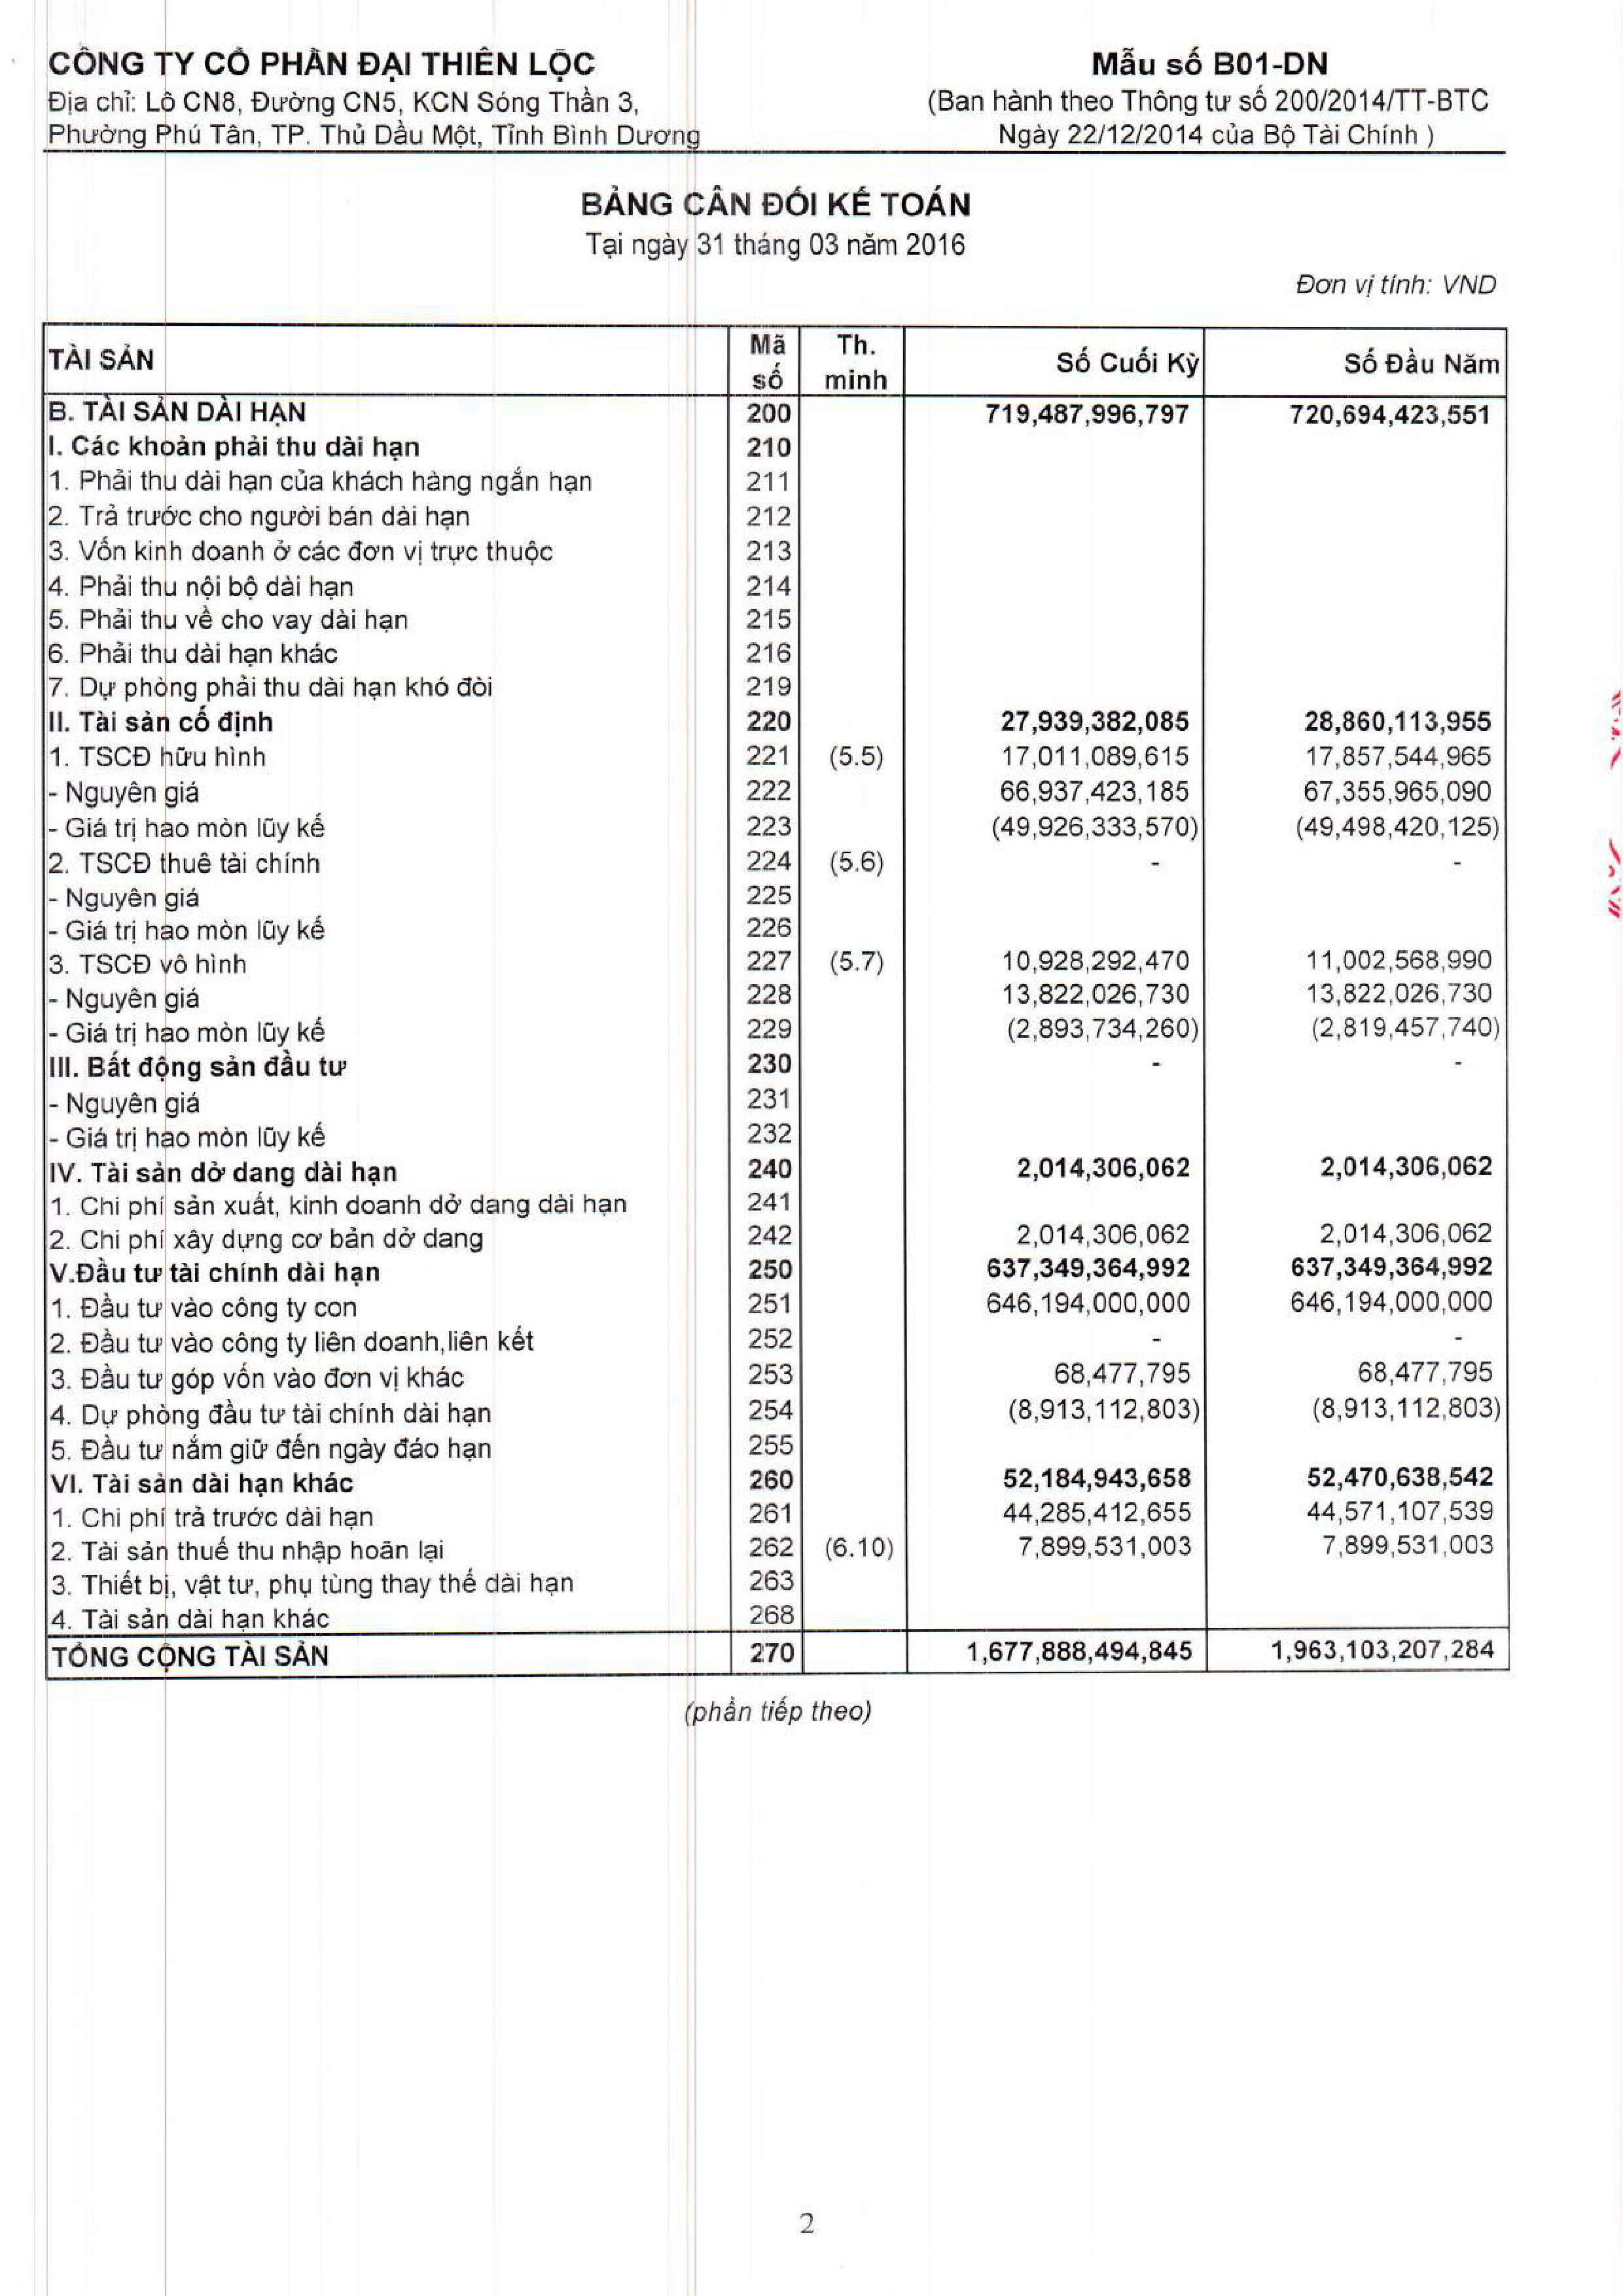table: (21, 311, 1526, 1687)
table column: (21, 311, 666, 1687), (1263, 311, 1526, 1687), (940, 311, 1200, 1687), (820, 311, 891, 1687), (729, 311, 783, 1687)
table column header: (21, 312, 1526, 391)
table row: (21, 325, 1526, 379), (21, 807, 1526, 841), (21, 425, 1526, 456), (21, 460, 1526, 491), (21, 495, 1526, 527), (21, 530, 1526, 562), (21, 565, 1526, 597), (21, 599, 1526, 630), (21, 634, 1526, 665), (21, 669, 1526, 700), (21, 704, 1526, 735), (21, 737, 1526, 769), (21, 776, 1526, 807), (21, 843, 1526, 874), (21, 879, 1526, 911), (21, 913, 1526, 944), (21, 946, 1526, 978), (21, 985, 1526, 1016), (21, 1018, 1526, 1050), (21, 1053, 1526, 1085), (21, 1088, 1526, 1120), (21, 1123, 1526, 1155), (21, 1159, 1526, 1190), (21, 1192, 1526, 1223), (21, 1227, 1526, 1259), (21, 1262, 1526, 1294), (21, 1297, 1526, 1329), (21, 1332, 1526, 1364), (21, 1367, 1526, 1399), (21, 1403, 1526, 1434), (21, 1471, 1526, 1503), (21, 1506, 1526, 1538), (21, 1539, 1526, 1571), (21, 1610, 1526, 1641), (21, 1648, 1526, 1680), (21, 391, 1526, 421), (21, 1438, 1526, 1467), (21, 1576, 1526, 1606)
